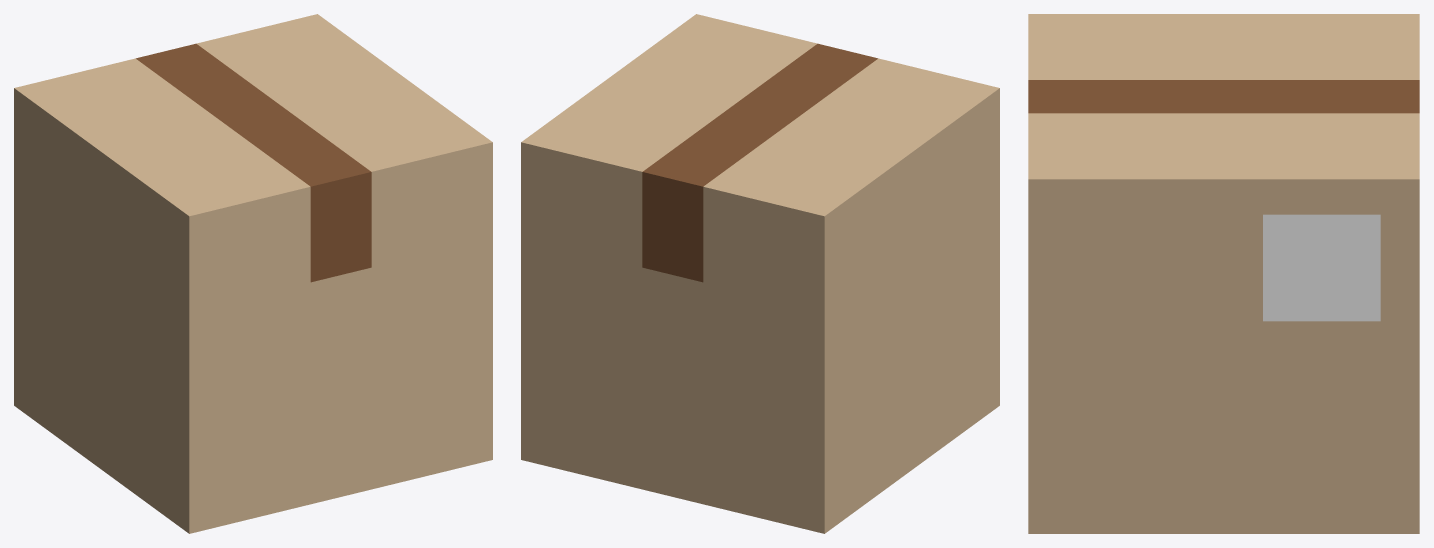
Rendered from props-package-box.glb.
3 renders of one model, left to right at view 1: azimuth 30°, elevation 25°; view 2: azimuth 150°, elevation 25°; view 3: azimuth 270°, elevation 25°, orthographic. The views are drawn at different scales.
Parts seen in each view (by area): view 1: package-box; view 2: package-box; view 3: package-box.
Boxes of the visible parts, x1,y1,x2,y2 form: package-box: (14, 14, 492, 533); package-box: (521, 14, 999, 533); package-box: (1028, 14, 1419, 533).
Bounding box in the file's own units: 0.75 × 0.75 × 0.75.
